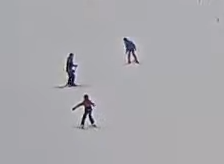skier: (49, 49, 95, 90), (68, 90, 105, 134), (117, 32, 148, 71)
